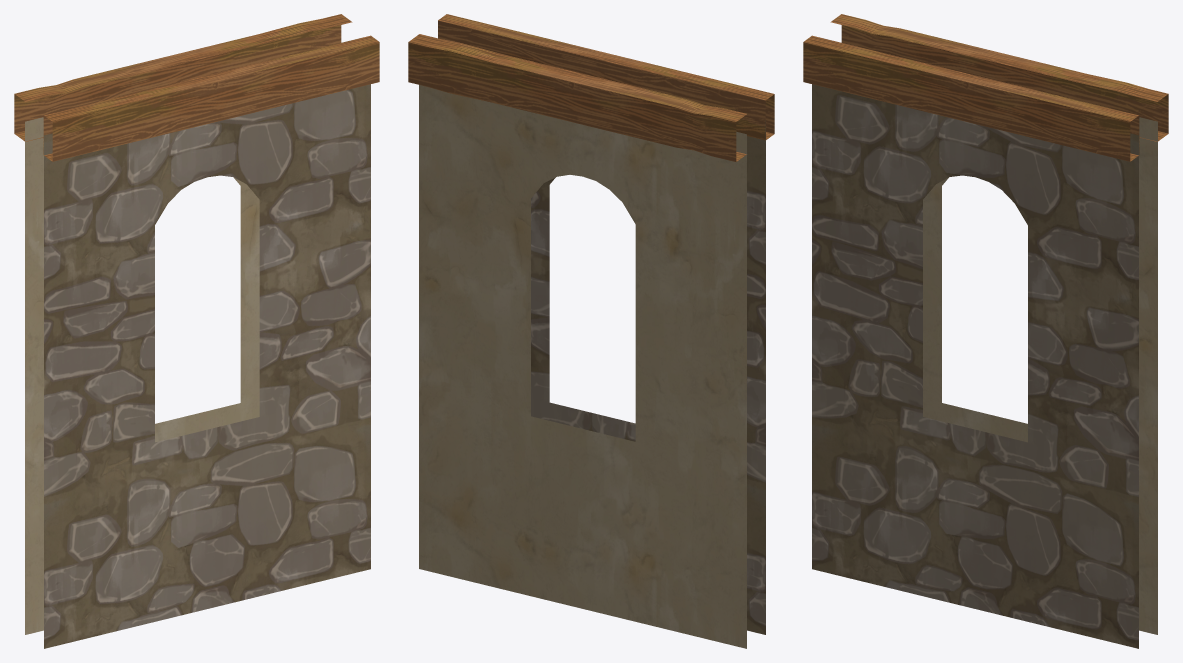
The model's file is Wall_UnevenBrick_Window_Thin_Round.gltf.
3 views of the same model, side by side, from view 1: azimuth 30°, elevation 25°; view 2: azimuth 150°, elevation 25°; view 3: azimuth 330°, elevation 25° (orthographic).
Parts seen in each view (by area): view 1: Wall_UnevenBrick_Window_Thin_Round; view 2: Wall_UnevenBrick_Window_Thin_Round; view 3: Wall_UnevenBrick_Window_Thin_Round.
Boxes of the visible parts, x1,y1,x2,y2 form: Wall_UnevenBrick_Window_Thin_Round: [14, 14, 379, 648]; Wall_UnevenBrick_Window_Thin_Round: [408, 14, 774, 648]; Wall_UnevenBrick_Window_Thin_Round: [803, 14, 1168, 648].
Size of the model in its own units: 2 by 3.12 by 0.4065.
Materials: 3 (3 with a texture image).
